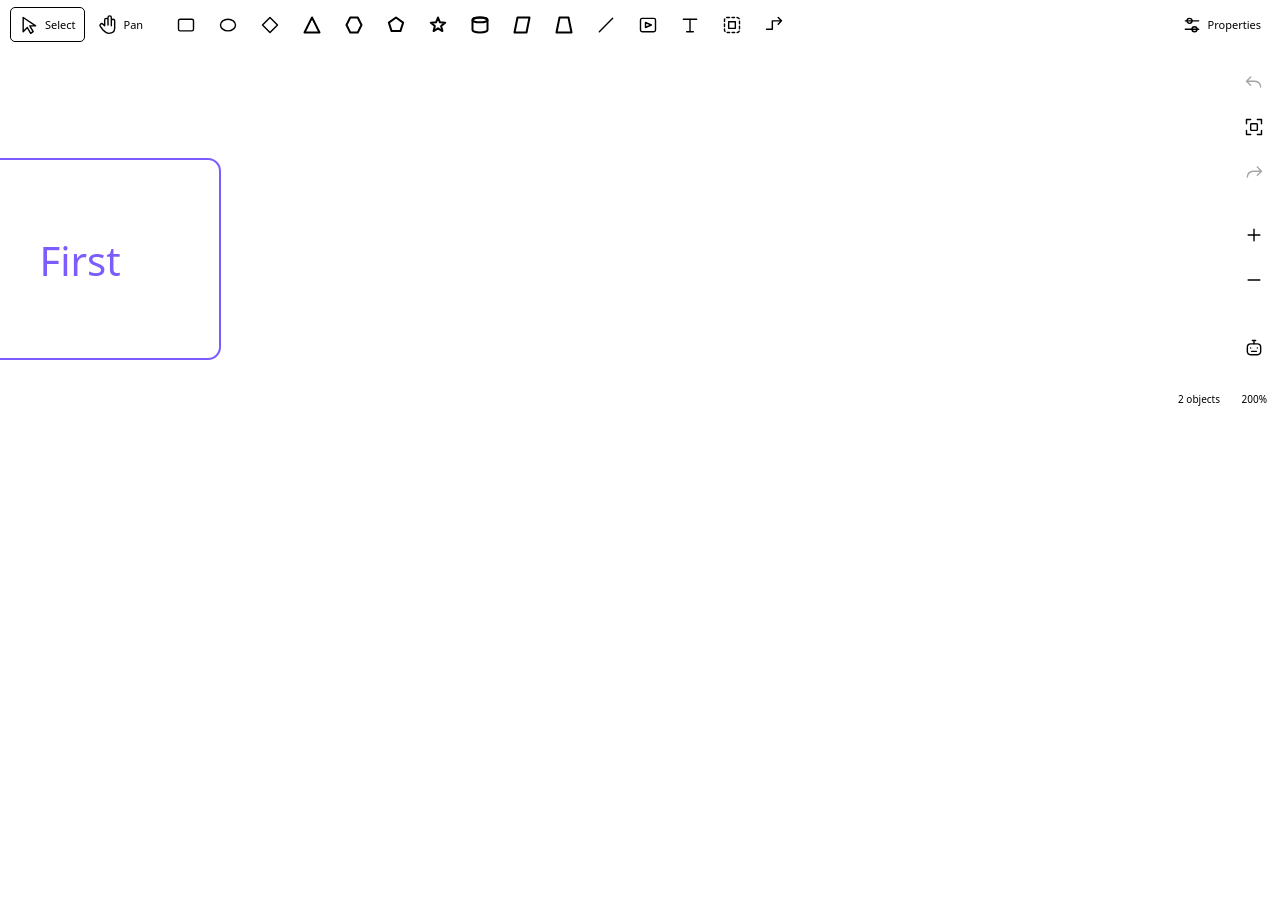
Test: rich canvas interactions › adds a shape at the clicked world position on a translated and zoomed canvas
Right-click the element named "Rich interactions canvas view" at [614, 215], box [0,49,1228,381]
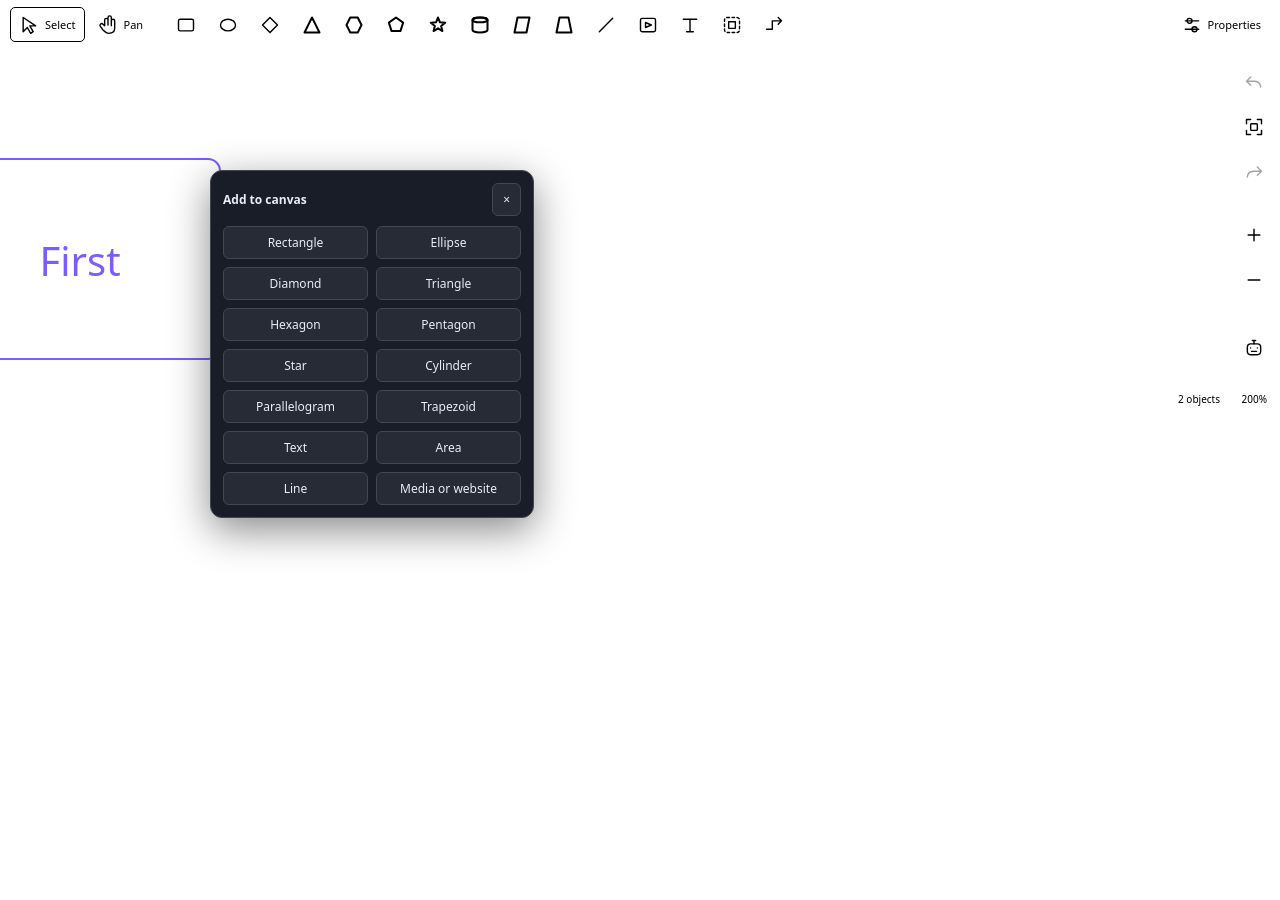
Click the button "Hexagon" at [296, 324], box [223,308,368,341]
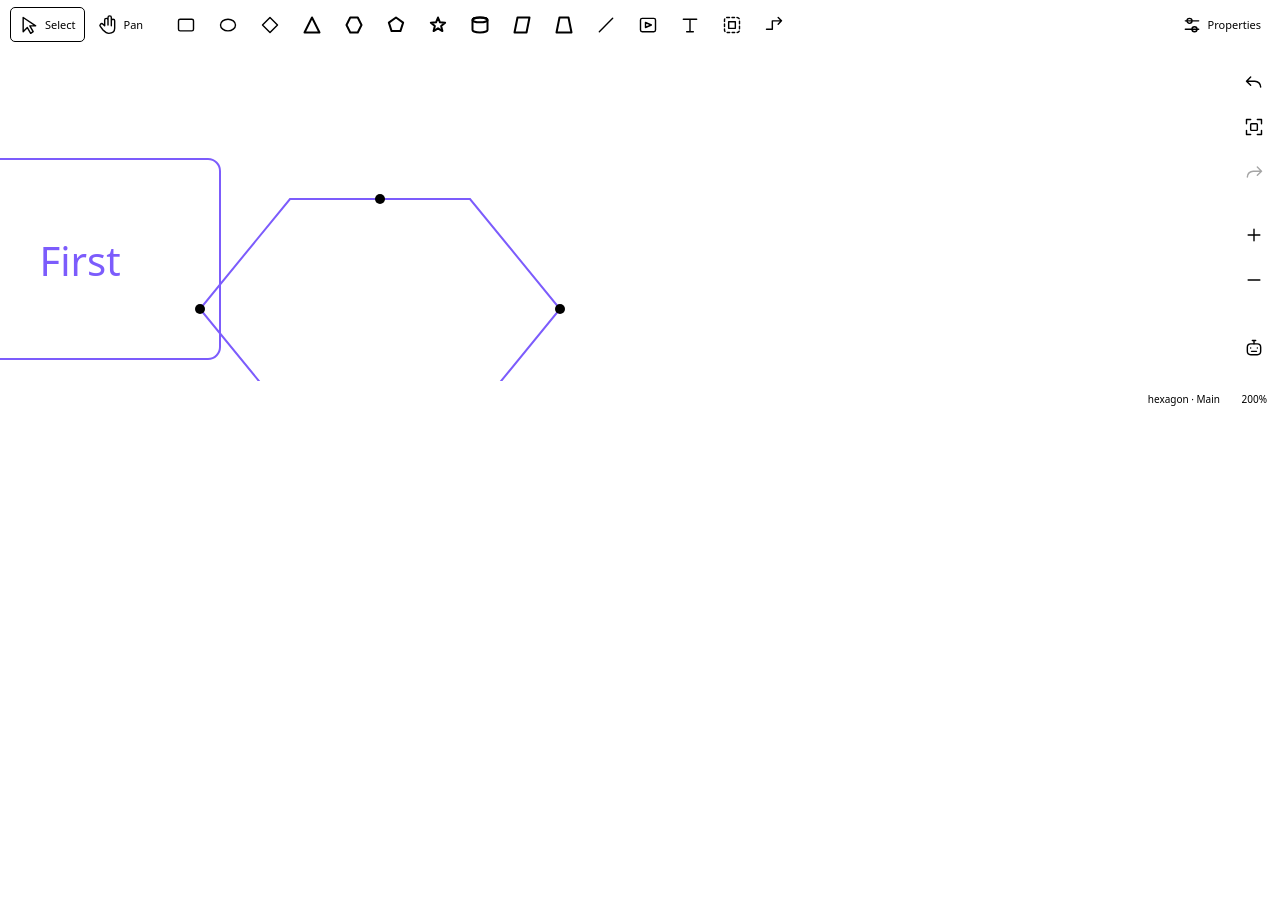
Expected: the dialog is gone
